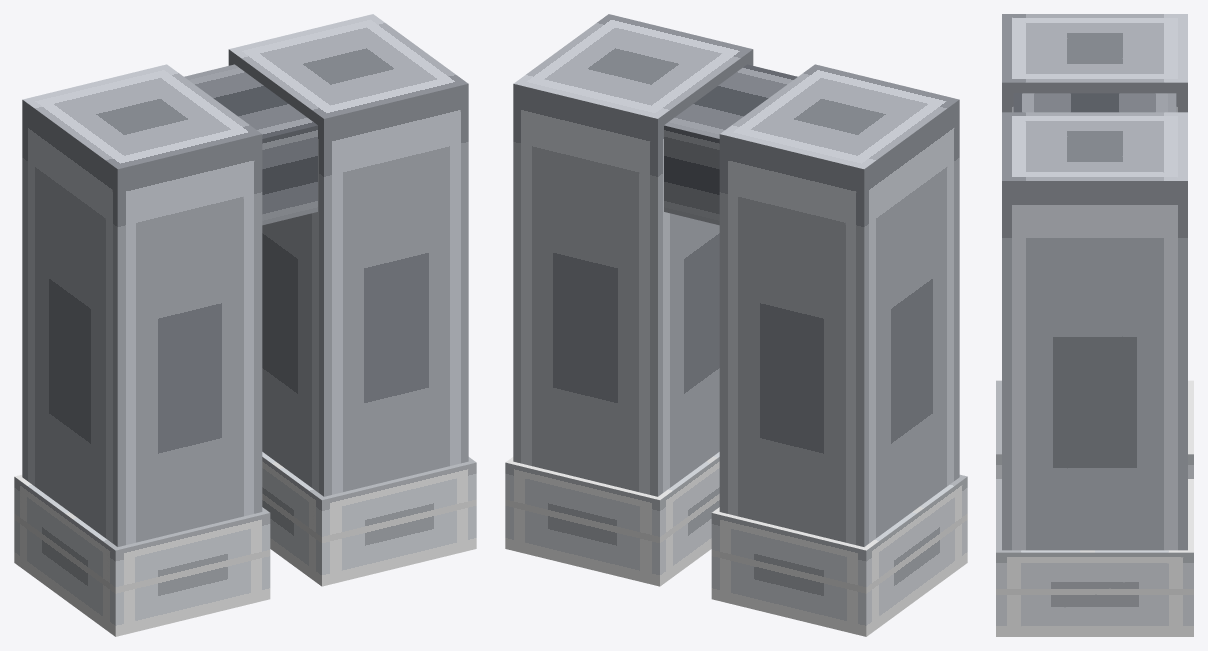
3 views of the same model, side by side, from view 1: azimuth 30°, elevation 25°; view 2: azimuth 150°, elevation 25°; view 3: azimuth 270°, elevation 25° (orthographic). The views are drawn at different scales.
Parts seen in each view (by area): view 1: iron_legs; view 2: iron_legs; view 3: iron_legs.
Boxes of the visible parts, x1=… form: iron_legs: x1=14, y1=14, x2=476, y2=636; iron_legs: x1=505, y1=14, x2=967, y2=636; iron_legs: x1=996, y1=14, x2=1193, y2=636.
Bounding box in the file's own units: 0.35 × 0.43 × 0.17.
3 materials, 3 textured.
